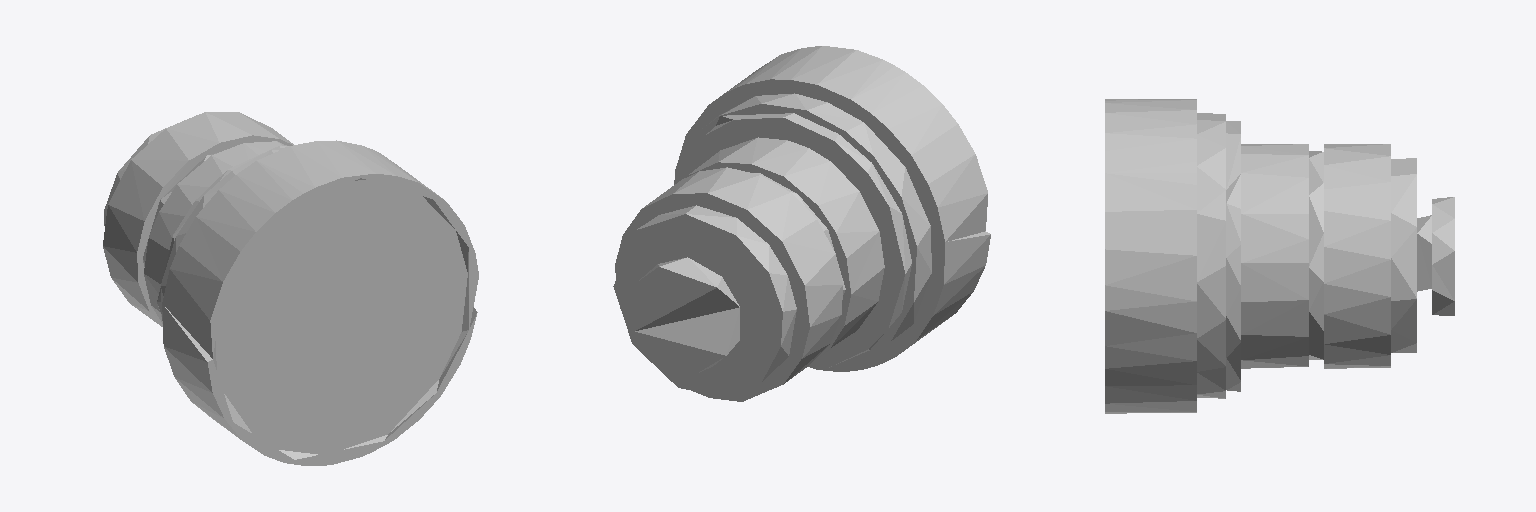
The model's file is head_camera.obj.
3 renders of one model, left to right at view 1: azimuth 30°, elevation 25°; view 2: azimuth 150°, elevation 25°; view 3: azimuth 270°, elevation 25°, orthographic.
Parts seen in each view (by area): view 1: SM_Head_Camera; view 2: SM_Head_Camera; view 3: SM_Head_Camera.
Part boxes in pixels (x1,y1,x2,y2): SM_Head_Camera: (103, 112, 478, 465); SM_Head_Camera: (613, 46, 990, 401); SM_Head_Camera: (1105, 99, 1454, 413).
Size of the model in its own units: 0.0419 by 0.042 by 0.0467.